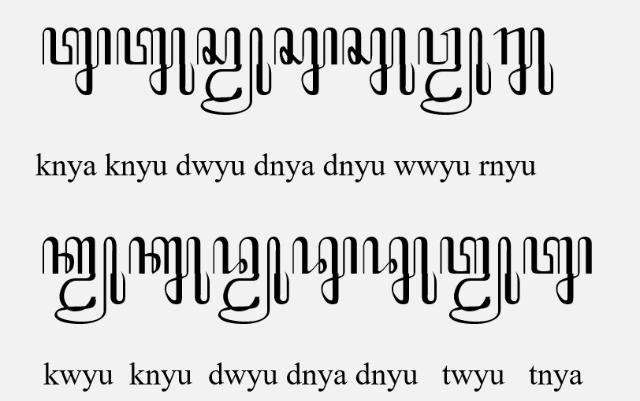dny: (292, 236, 358, 306)
dnyu: (362, 236, 438, 306)
dwyu: (213, 235, 290, 325)
knyu: (127, 236, 210, 306)
kwyu: (41, 237, 125, 325)
rnyu: (493, 26, 555, 96)
sny: (274, 26, 338, 96)
snyu: (341, 26, 415, 96)
swyu: (196, 27, 272, 117)
tny: (42, 26, 112, 96), (522, 236, 592, 306)
tnyu: (116, 27, 194, 95)
twyu: (439, 236, 521, 326)
wwyu: (418, 26, 492, 116)
